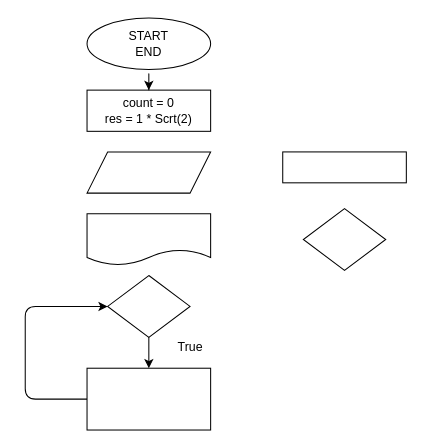
Image size: 424x448. Some labels were removed from this diagram. The centre of each missing label's shape, as x and y in pixels:
ВВОД count: the point at 148,172
ВЫВОД res: the point at 148,239
